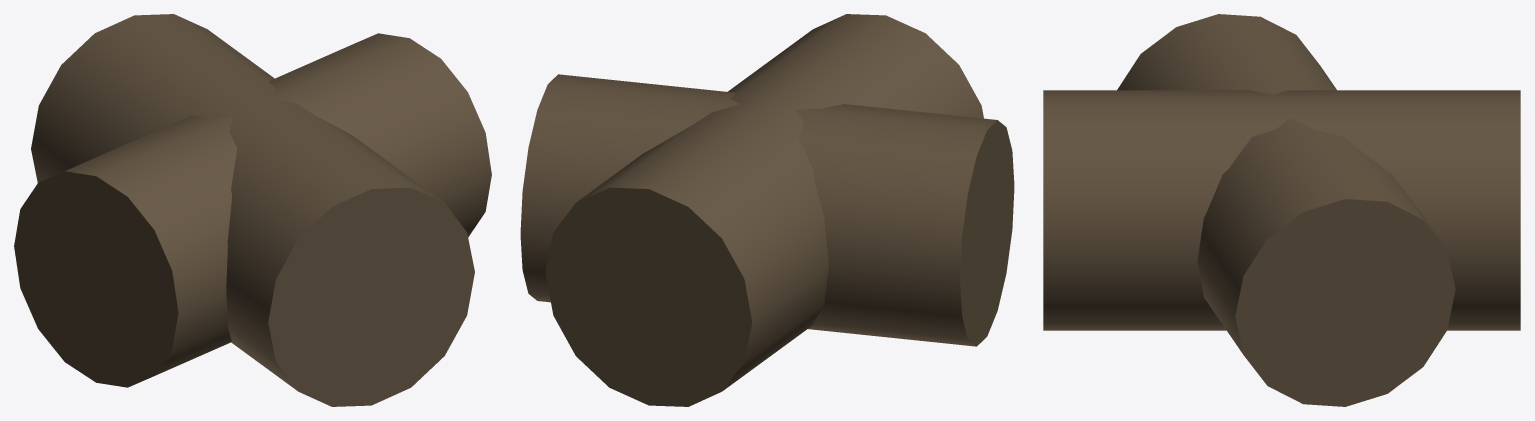
Rendered from campfire.fbx.
3 renders of one model, left to right at view 1: azimuth 30°, elevation 25°; view 2: azimuth 150°, elevation 25°; view 3: azimuth 270°, elevation 25°, orthographic.
Visible parts, largest first — view 1: pCylinder8, pCylinder9; view 2: pCylinder8, pCylinder9; view 3: pCylinder8, pCylinder9.
Boxes of the visible parts, x1,y1,x2,y2 form: pCylinder8: (31, 14, 474, 406); pCylinder9: (14, 33, 491, 387); pCylinder8: (545, 14, 983, 406); pCylinder9: (520, 74, 1014, 346); pCylinder8: (1043, 90, 1520, 330); pCylinder9: (1117, 14, 1455, 406).
Size of the model in its own units: 94.26 by 45.2 by 89.75.
